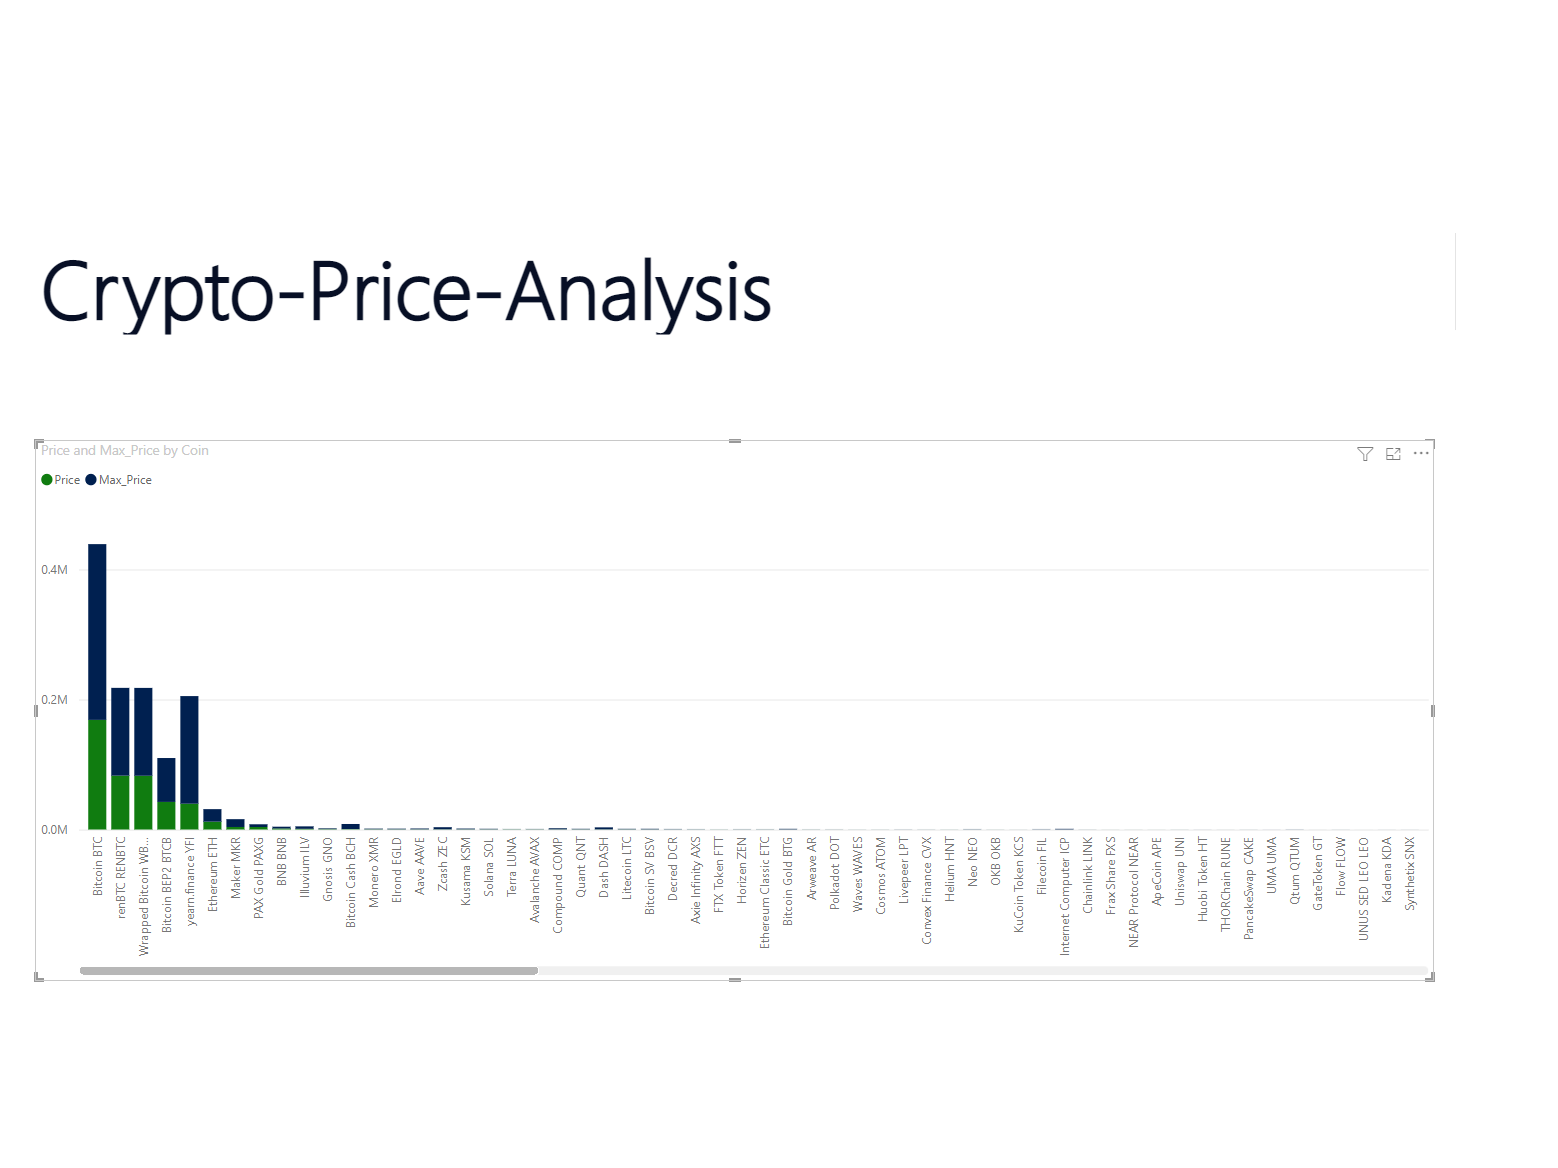

The dashboard page shown, as its layout file describes it:
{"tool":"powerbi","page":{"name":"Page 1","canvas":[1280,720],"ordinal":0},"visuals":[{"type":"textbox","box":[9.7,0,908.4,102.1],"z":0},{"type":"columnChart","fields":{"Category":["coin_val.Coin"],"Y":["Sum(coin_val.Price)","Sum(coin_val.Max_Price)"]},"box":[9.7,190.6,1239.1,478.5],"z":1}]}

Visuals, with their boxes on the page's 1280x720 design canvas (x1, y1, x2, y2). These are canvas units, not pixel positions in the 1558x1168 screenshot, which may show the page scaled, cropped or inside an application window:
textbox: x1=10, y1=0, x2=918, y2=102
columnChart - coin_val.Coin x Sum(coin_val.Price): x1=10, y1=191, x2=1249, y2=669
